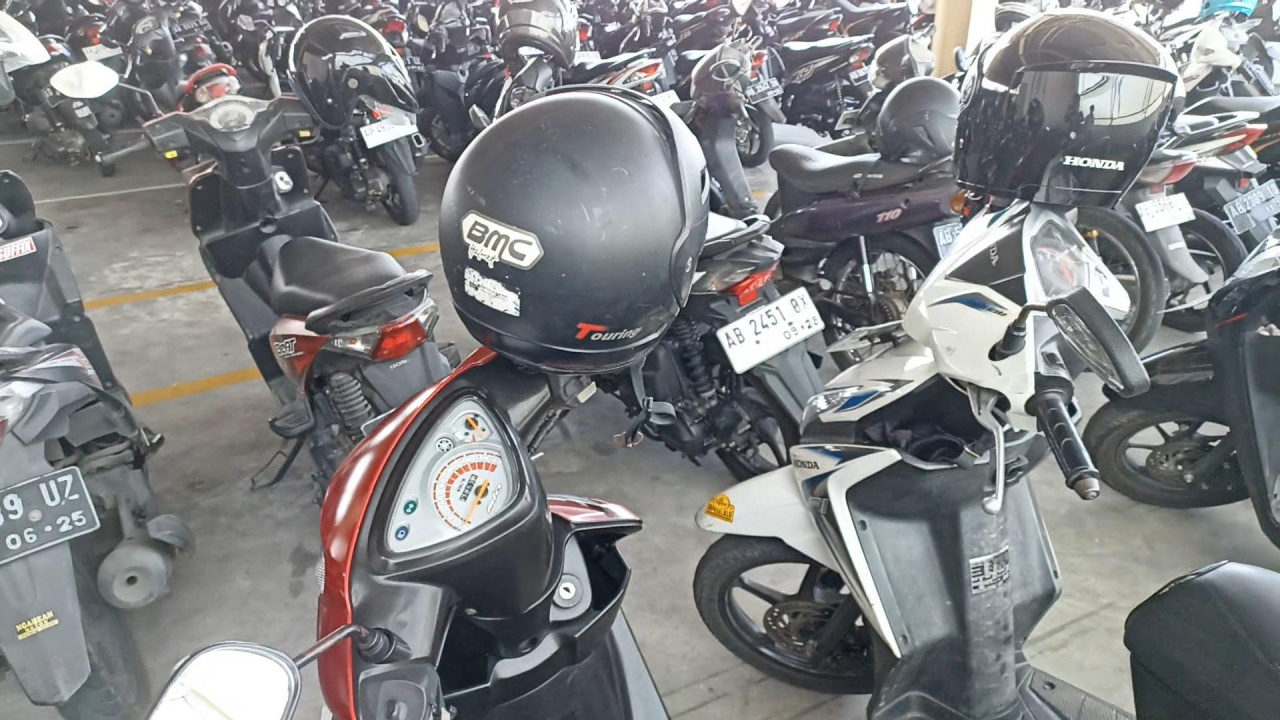plate: (716, 287, 825, 375)
